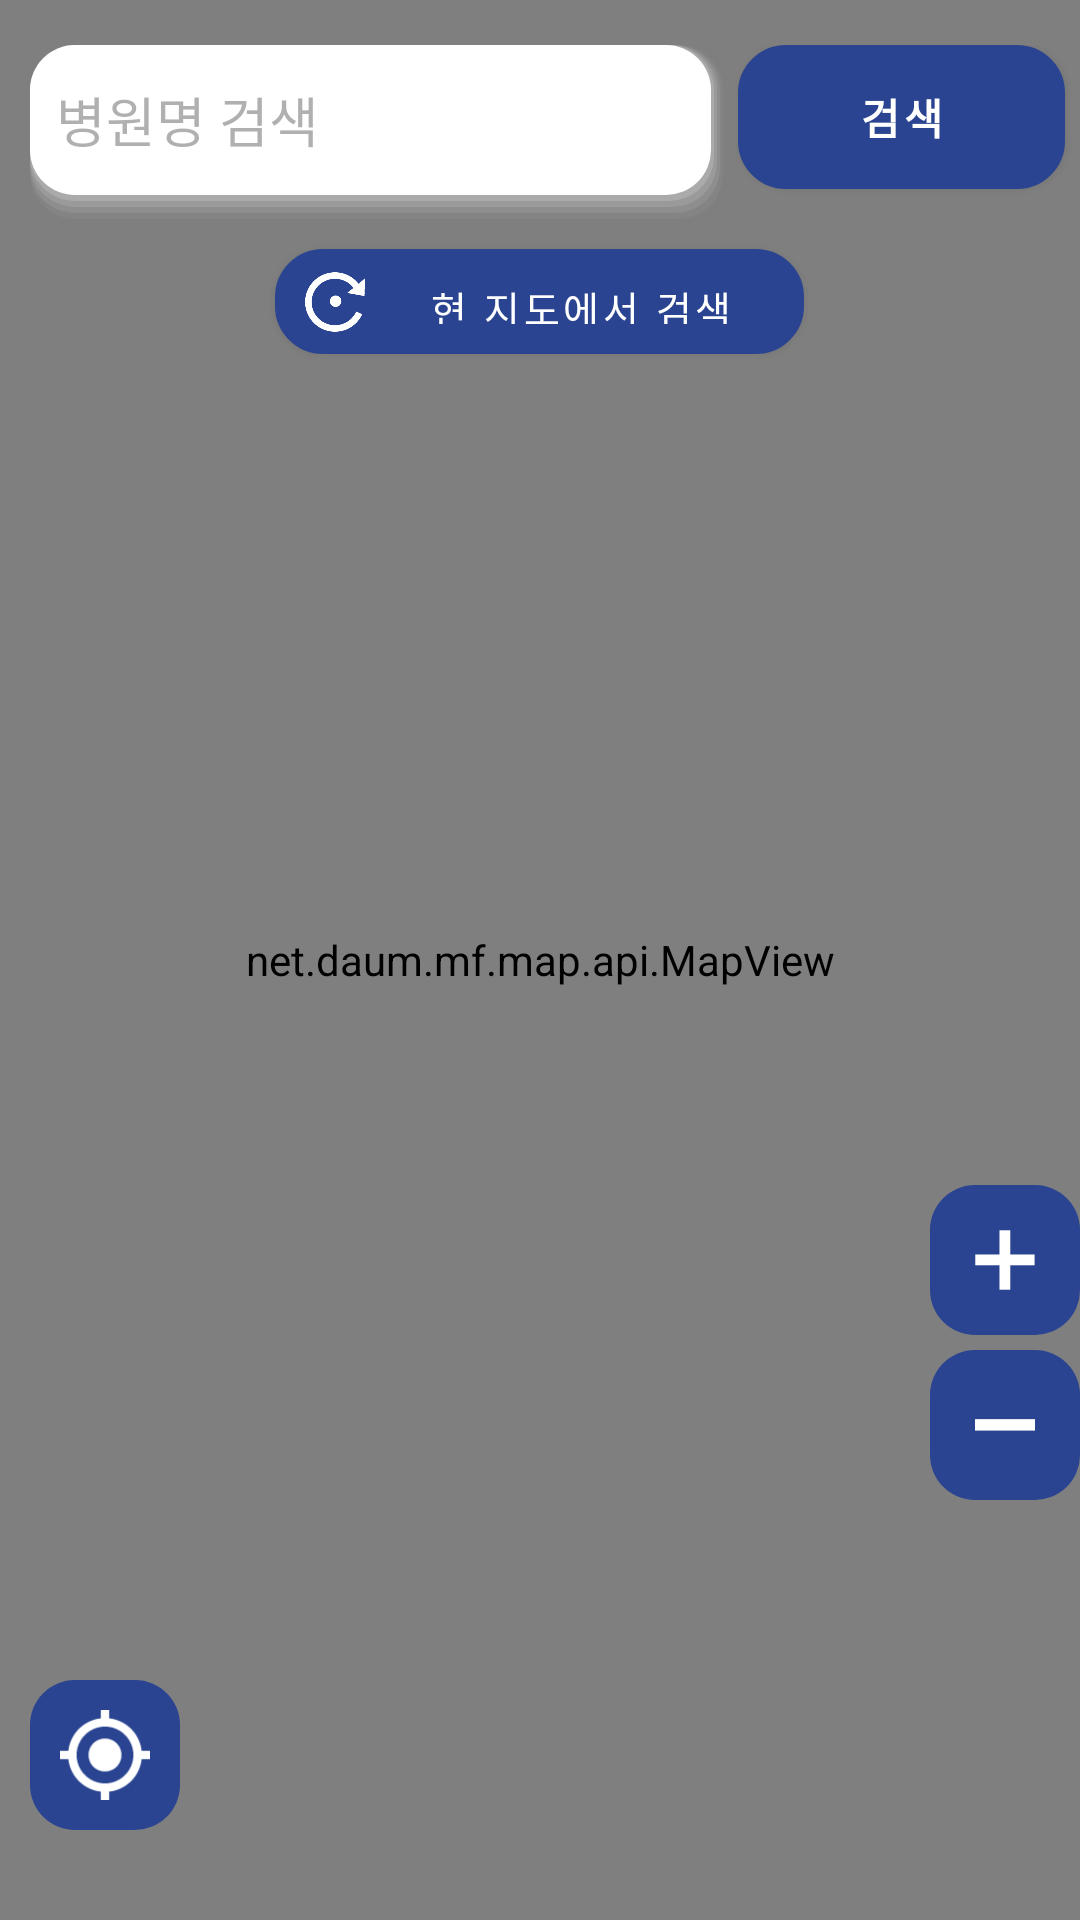

Icon bounding boxes for this 1080 × 1920 phone screenshot, format rect(x1, y1, x2, y2):
crosshair: rect(30, 1680, 180, 1830)
minus: rect(930, 1350, 1080, 1500)
plus: rect(930, 1185, 1080, 1335)
